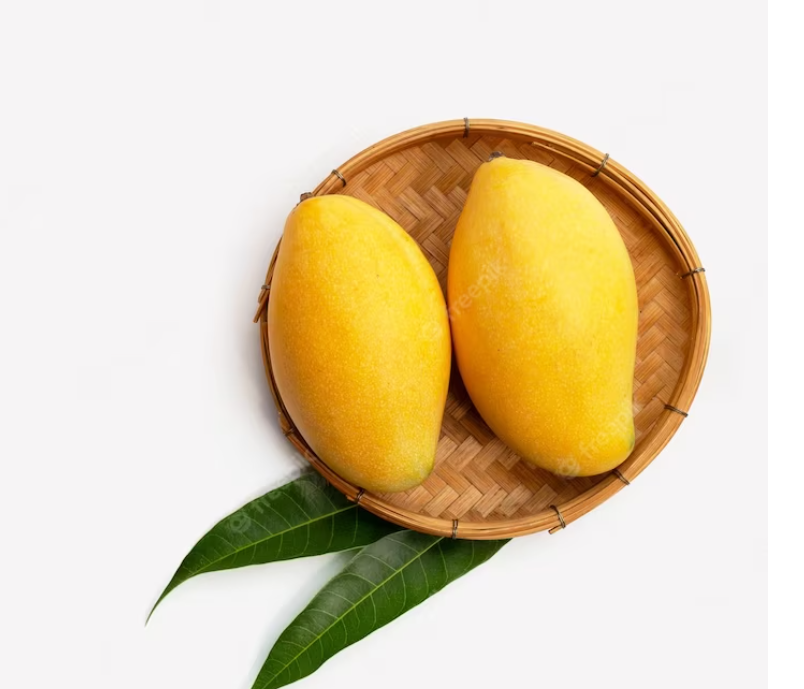mango: (455, 156, 638, 475), (269, 195, 450, 495)
